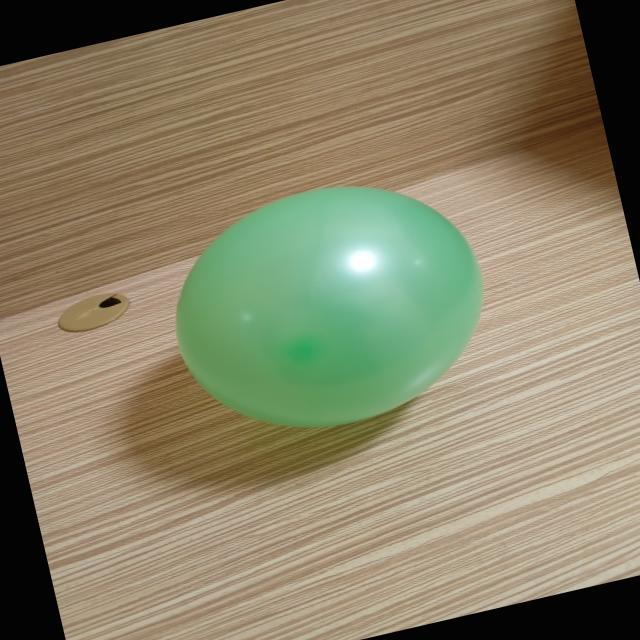balloon: (176, 186, 483, 427)
